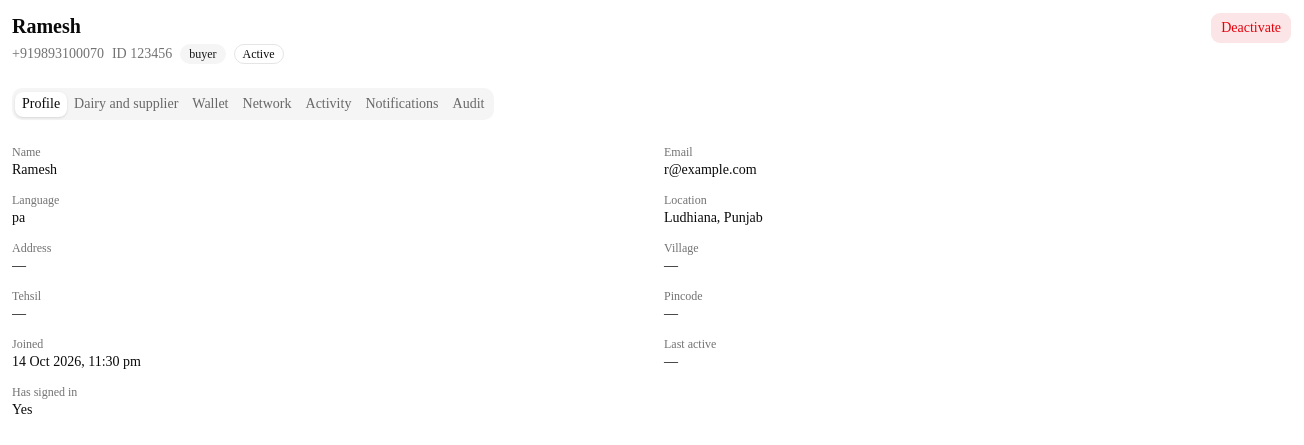
Test: UserDetailView › shows the dairy, wallet, network, activity and audit on their tabs
Click the tab "Dairy and supplier" at (126, 104), box [67,92,185,116]
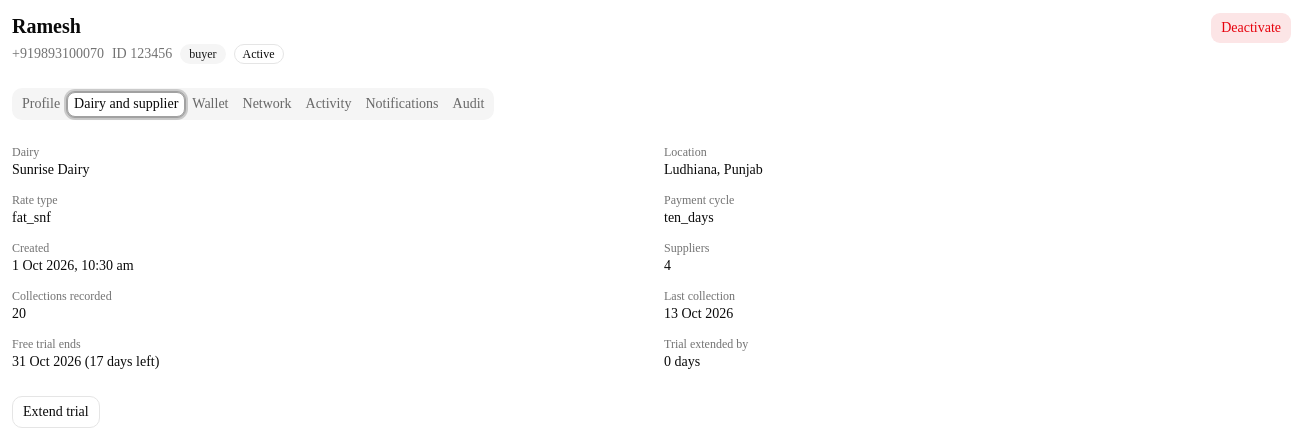
Now the text "Sunrise Dairy" is shown, box [12,162,89,177]
Click the tab "Wallet" at (210, 104), box [185,92,236,116]
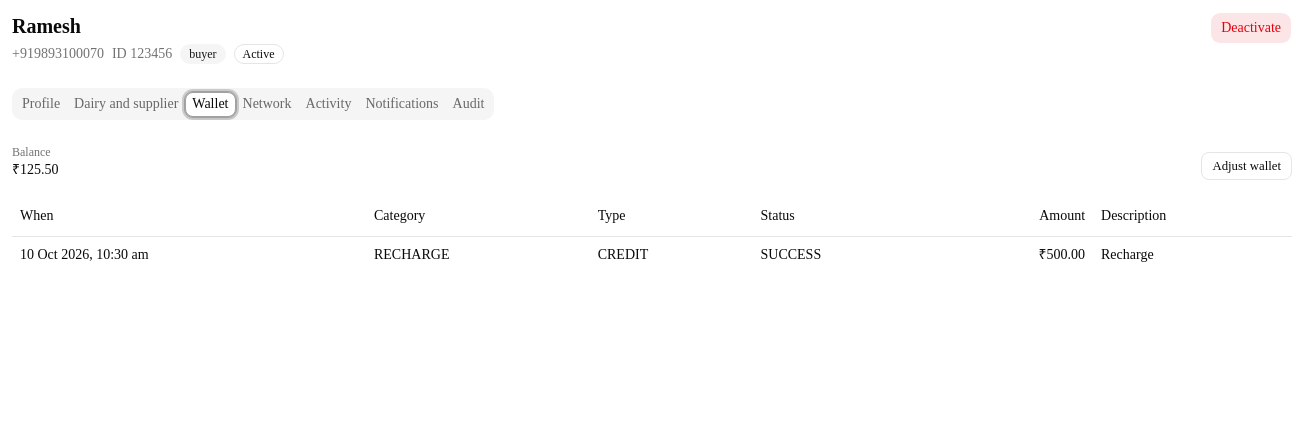
Now the text "₹500.00" is shown, box [940,236,1093,272]
Click the tab "Network" at (267, 104), box [236,92,298,116]
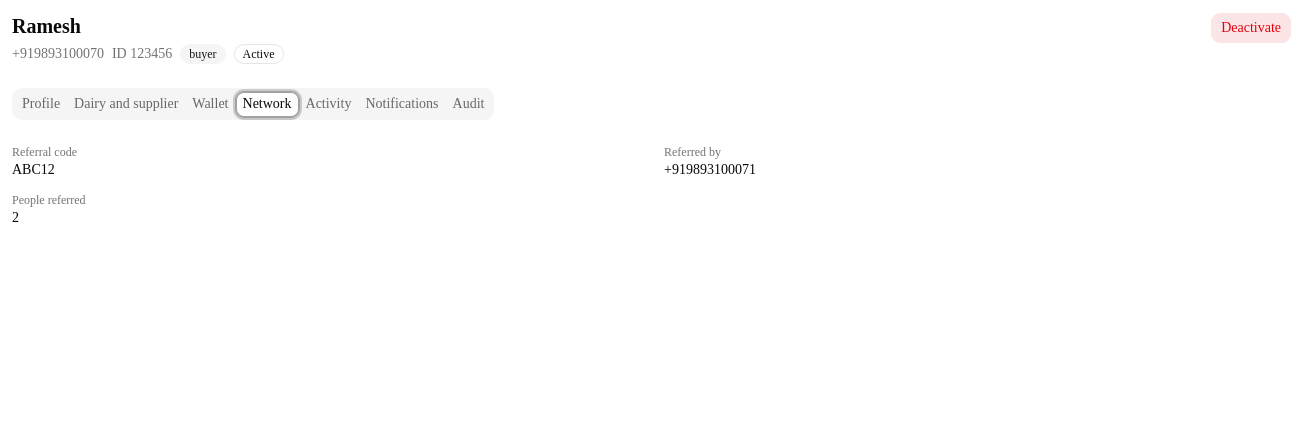
Now the text "+919893100071" is shown, box [664,162,756,177]
Click the tab "Activity" at (328, 104), box [298,92,358,116]
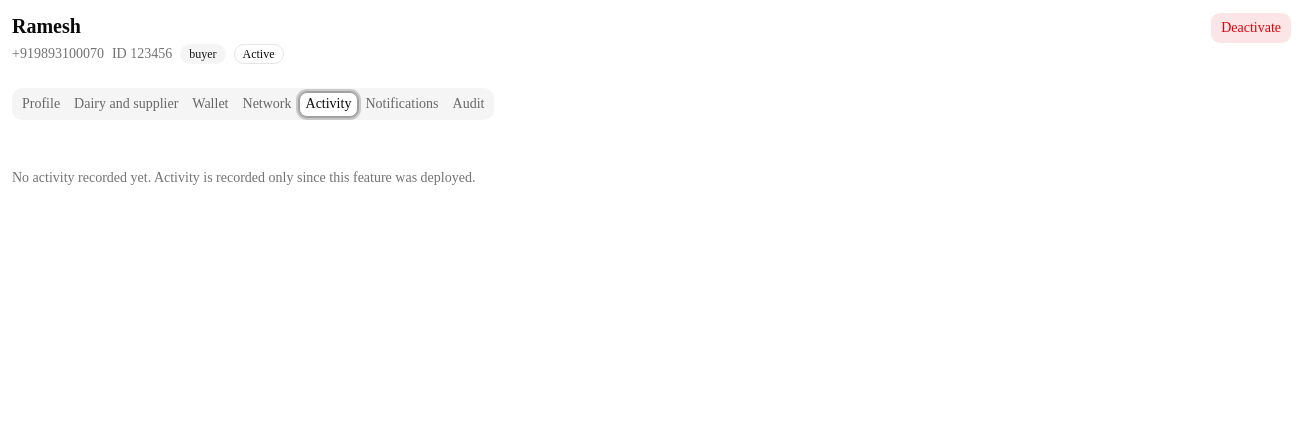
Now the text "No activity recorded yet" is shown, box [12,170,475,185]
Click the tab "Audit" at (468, 104), box [446,92,491,116]
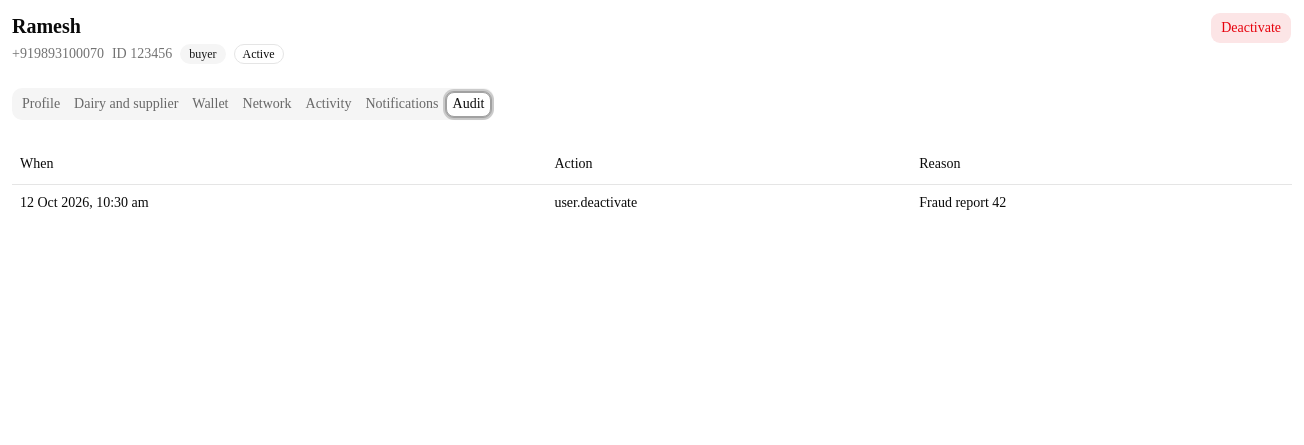
Now the text "Fraud report 42" is shown, box [911,184,1292,220]
